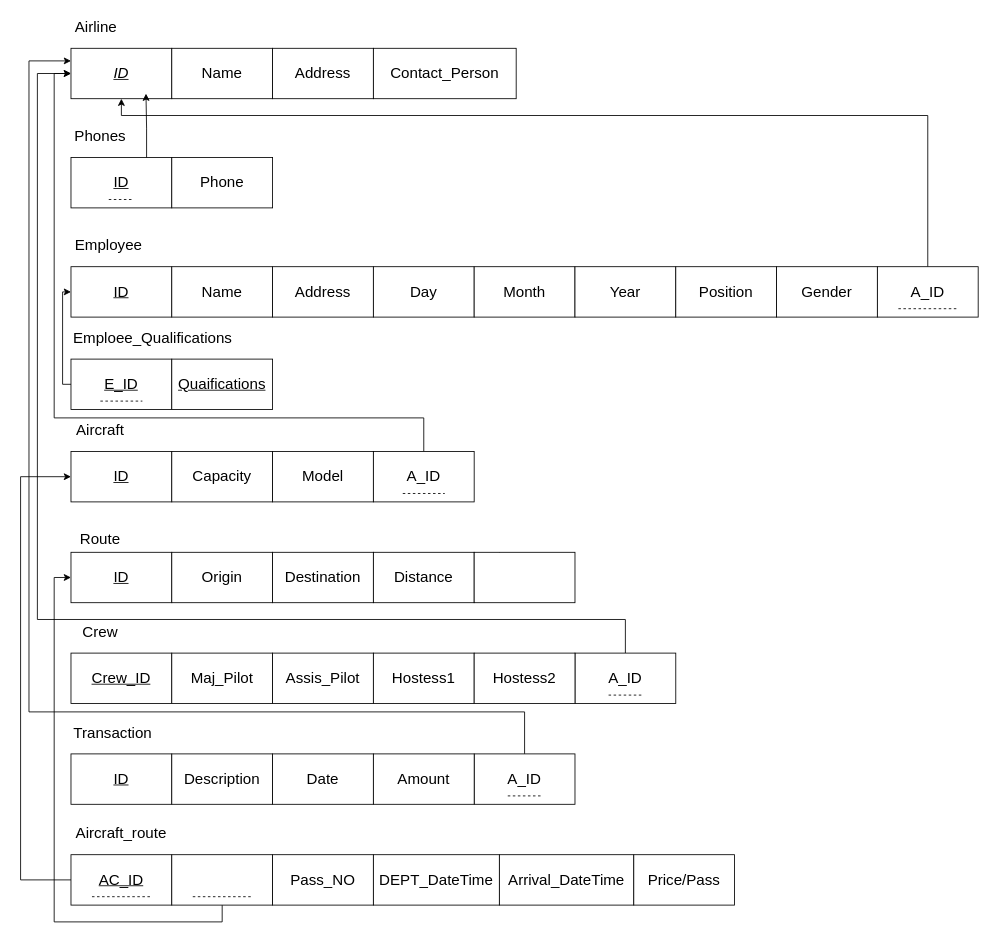
Some shapes in this 993 by 943 pixel diagram are drawn without their labels. The centre of each missing label's shape, as x and y in pixels:
Classification: point (524, 577)
R_ID: point (222, 879)
